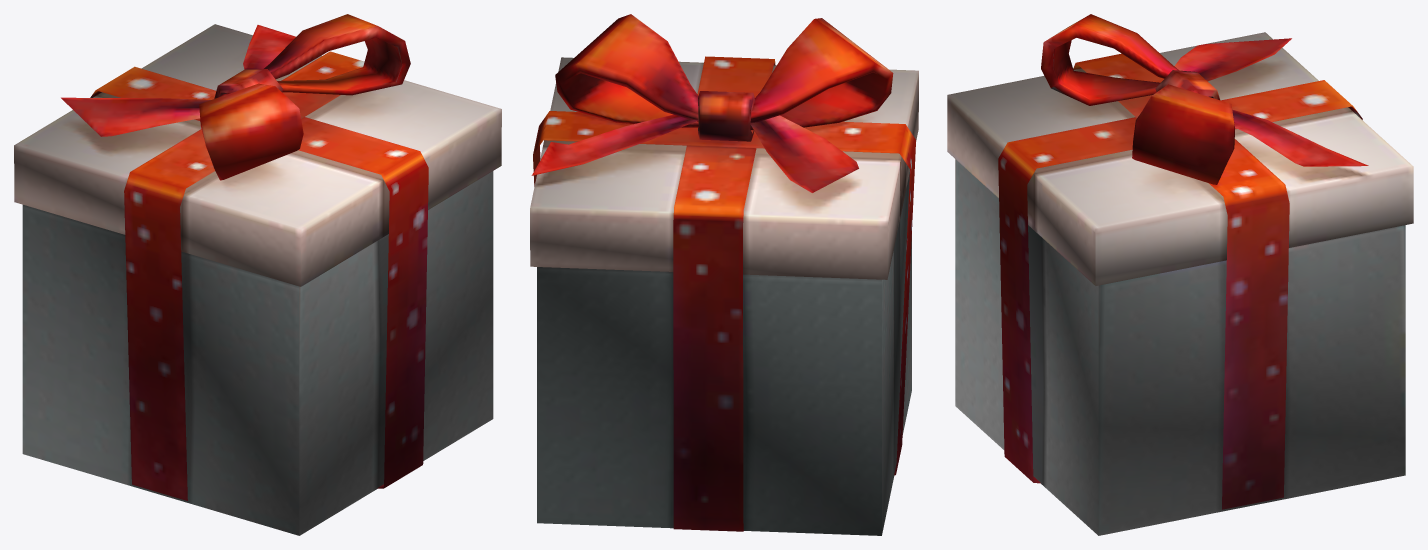
The model's file is pref_sm_prop_gift01_lv1.fbx.
3 views of the same model, side by side, from view 1: azimuth 30°, elevation 25°; view 2: azimuth 150°, elevation 25°; view 3: azimuth 270°, elevation 25° (orthographic). The views are drawn at different scales.
Visible parts, largest first — view 1: pref_sm_prop_gift01_lv1; view 2: pref_sm_prop_gift01_lv1; view 3: pref_sm_prop_gift01_lv1.
Part boxes in pixels (x1,y1,x2,y2): pref_sm_prop_gift01_lv1: (14, 14, 501, 535); pref_sm_prop_gift01_lv1: (530, 14, 918, 535); pref_sm_prop_gift01_lv1: (947, 14, 1413, 535).
Bounding box in the file's own units: 1.06 × 0.9973 × 1.06.
1 material, 1 textured.
